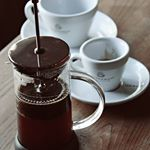cups: (23, 1, 103, 51), (66, 35, 132, 92)
